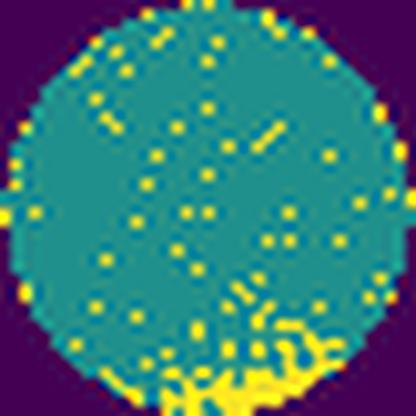Edge-Loc: (154, 318, 349, 416)
